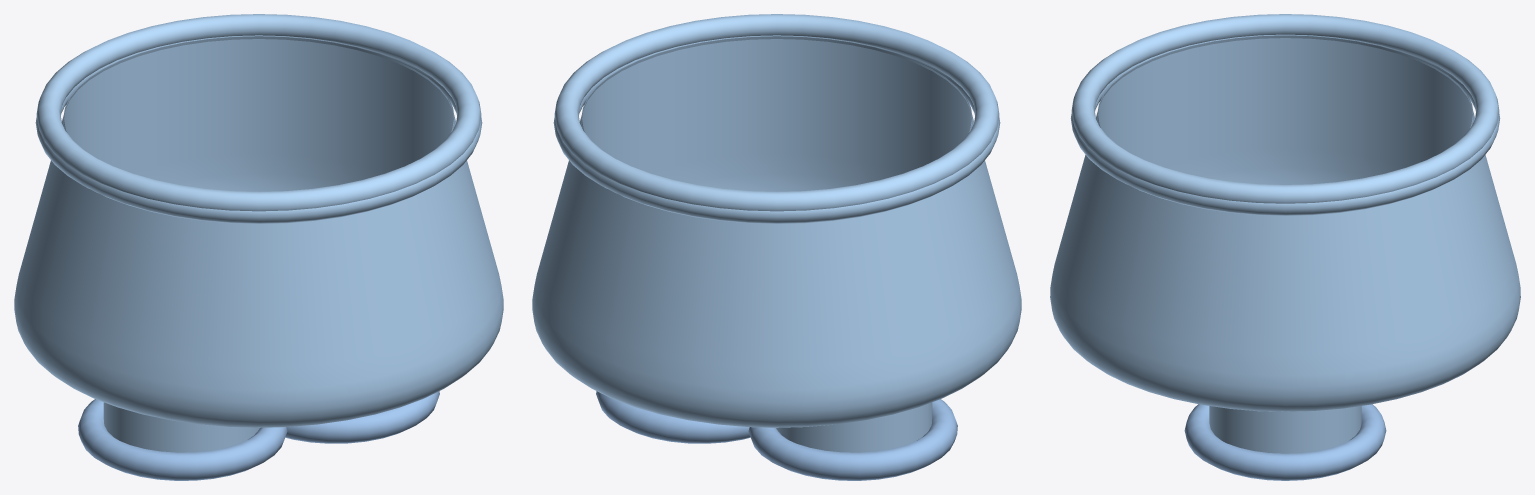
File: shorts.glb
The picture shows the model from 3 angles, left to right: view 1: azimuth 30°, elevation 25°; view 2: azimuth 150°, elevation 25°; view 3: azimuth 270°, elevation 25°; orthographic projection. The views are drawn at different scales.
Parts seen in each view (by area): view 1: BodyGirl, BodyBoy, LegL, LegR; view 2: BodyGirl, BodyBoy, LegL, LegR; view 3: BodyGirl, BodyBoy, LegR.
Boxes of the visible parts, x1,y1,x2,y2 form: BodyGirl: (14,14,503,427); BodyBoy: (35,35,482,223); LegL: (78,399,287,480); LegR: (285,391,439,443); BodyGirl: (532,14,1021,427); BodyBoy: (553,35,1000,223); LegL: (748,399,957,480); LegR: (596,391,750,443); BodyGirl: (1050,14,1520,411); BodyBoy: (1070,34,1500,215); LegR: (1184,404,1386,480).
Size of the model in its own units: 0.4451 by 0.3188 by 0.4451.
